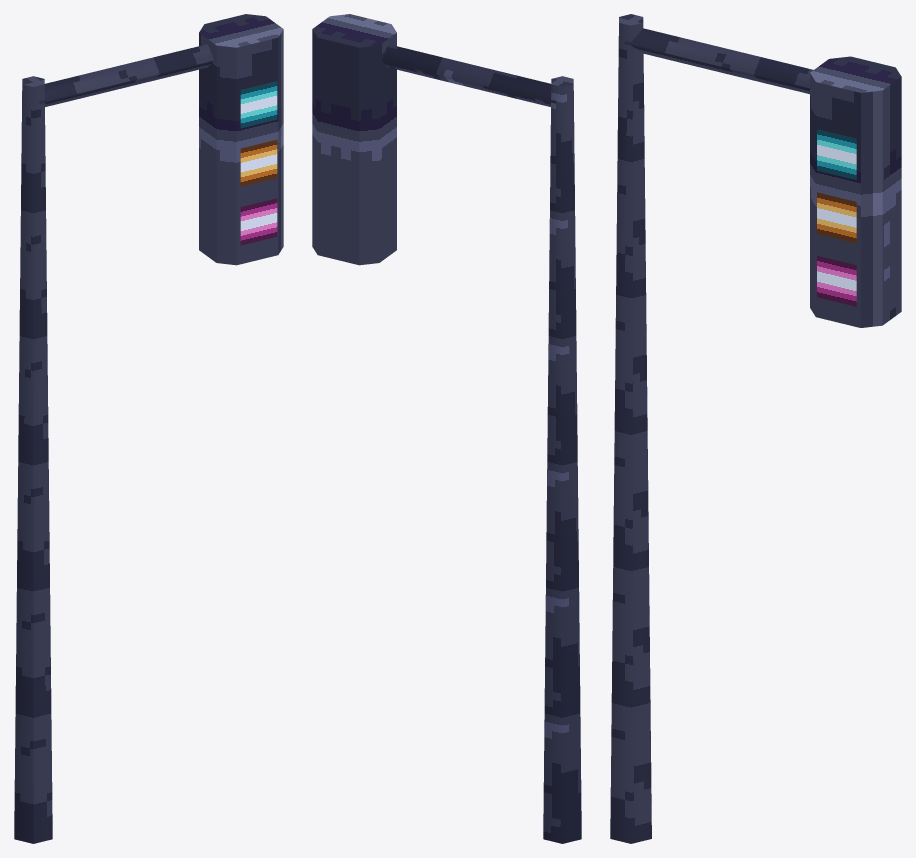
File: cydress.traffic_signal.glb
3 renders of one model, left to right at view 1: azimuth 30°, elevation 25°; view 2: azimuth 150°, elevation 25°; view 3: azimuth 330°, elevation 25°, orthographic. The views are drawn at different scales.
Parts seen in each view (by area): view 1: kit_body, kit_card_details; view 2: kit_body; view 3: kit_body, kit_card_details.
Part boxes in pixels (x1,y1,x2,y2): kit_body: [14, 14, 283, 843]; kit_card_details: [240, 81, 277, 245]; kit_body: [312, 14, 581, 843]; kit_body: [610, 14, 901, 843]; kit_card_details: [817, 129, 856, 306].
Bounding box in the file's own units: 1.63 × 4.5 × 0.365.
Materials: 3 (3 with a texture image).
